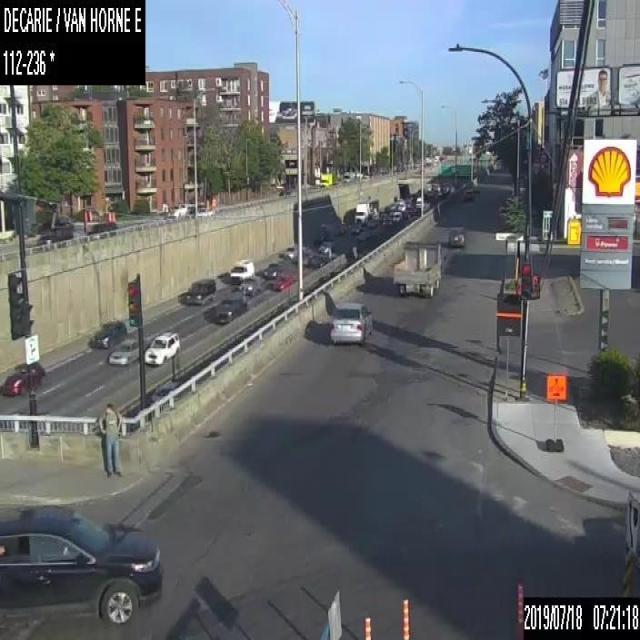construction: (546, 373, 566, 449), (516, 580, 524, 639), (401, 597, 409, 639), (364, 614, 370, 638), (87, 209, 92, 221), (83, 209, 87, 224), (211, 196, 216, 206), (111, 211, 115, 220), (107, 211, 111, 220), (206, 199, 208, 209)
pedestrian: (96, 400, 123, 476)
vehicle: (0, 503, 162, 625), (391, 240, 444, 297), (328, 298, 373, 346), (0, 360, 45, 395), (143, 329, 181, 364), (91, 319, 126, 348), (217, 292, 247, 324), (109, 338, 138, 365), (39, 225, 72, 248), (186, 278, 214, 303), (228, 258, 254, 284), (353, 197, 378, 223), (237, 275, 262, 295), (86, 218, 116, 234), (271, 274, 295, 292), (448, 227, 465, 247), (263, 261, 281, 279), (318, 238, 335, 254), (283, 243, 297, 259), (318, 172, 332, 187), (168, 205, 182, 218), (349, 221, 362, 233), (462, 188, 473, 202), (392, 210, 401, 223), (397, 200, 406, 211), (414, 196, 421, 208)
